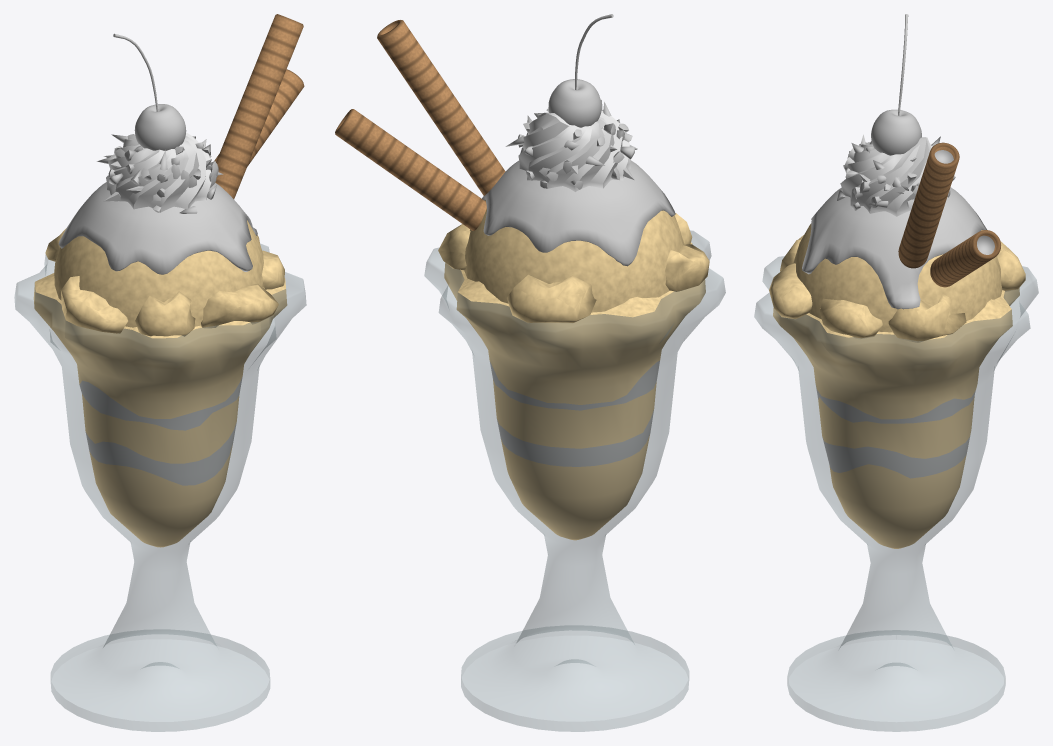
File: 3December2020_Day09_IceCream_v1.fbx
3 views of the same model, side by side, from view 1: azimuth 30°, elevation 25°; view 2: azimuth 150°, elevation 25°; view 3: azimuth 270°, elevation 25° (orthographic). The views are drawn at different scales.
Visible parts, largest first — view 1: IceCream_Glass, IceCream_Main, IceCream_Chocolate_Top, IceCream_Bar.000, IceCream_Top_Cream, IceCream_Nuts, IceCream_Cherry, IceCream_Bar.001; view 2: IceCream_Glass, IceCream_Main, IceCream_Chocolate_Top, IceCream_Bar.000, IceCream_Top_Cream, IceCream_Bar.001, IceCream_Cherry, IceCream_Nuts; view 3: IceCream_Glass, IceCream_Main, IceCream_Chocolate_Top, IceCream_Bar.000, IceCream_Top_Cream, IceCream_Bar.001, IceCream_Cherry, IceCream_Nuts.
Part boxes in pixels (left/top/right/bottom): IceCream_Glass: left=14, top=243, right=306, bottom=731; IceCream_Main: left=45, top=220, right=284, bottom=336; IceCream_Chocolate_Top: left=58, top=182, right=257, bottom=274; IceCream_Bar.000: left=215, top=14, right=303, bottom=198; IceCream_Top_Cream: left=106, top=132, right=213, bottom=212; IceCream_Nuts: left=97, top=134, right=223, bottom=213; IceCream_Cherry: left=113, top=33, right=186, bottom=150; IceCream_Bar.001: left=214, top=69, right=304, bottom=166; IceCream_Glass: left=424, top=230, right=725, bottom=731; IceCream_Main: left=438, top=200, right=709, bottom=323; IceCream_Chocolate_Top: left=482, top=160, right=675, bottom=266; IceCream_Bar.000: left=377, top=20, right=505, bottom=195; IceCream_Top_Cream: left=518, top=111, right=630, bottom=191; IceCream_Bar.001: left=335, top=109, right=486, bottom=230; IceCream_Cherry: left=548, top=14, right=613, bottom=127; IceCream_Nuts: left=505, top=100, right=637, bottom=189; IceCream_Glass: left=754, top=256, right=1038, bottom=731; IceCream_Main: left=769, top=223, right=1025, bottom=342; IceCream_Chocolate_Top: left=802, top=187, right=986, bottom=309; IceCream_Bar.000: left=898, top=142, right=959, bottom=268; IceCream_Top_Cream: left=840, top=137, right=932, bottom=216; IceCream_Bar.001: left=930, top=230, right=1000, bottom=287; IceCream_Cherry: left=871, top=14, right=921, bottom=155; IceCream_Nuts: left=837, top=134, right=955, bottom=210.
Bounding box in the file's own units: 19.5 × 39.66 × 15.69.
